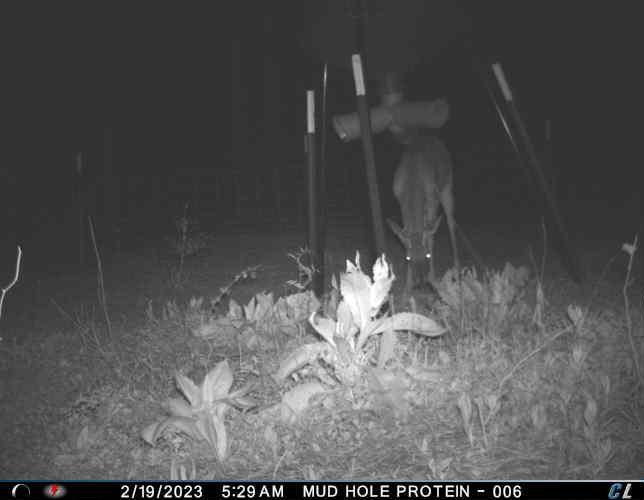Deer: (386, 131, 468, 300)
